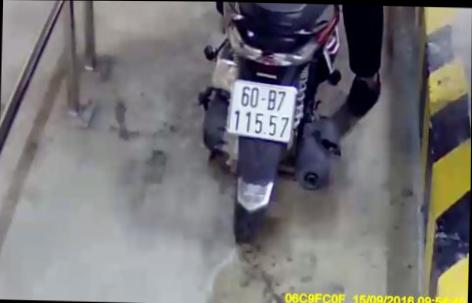LP: (225, 74, 300, 146)
